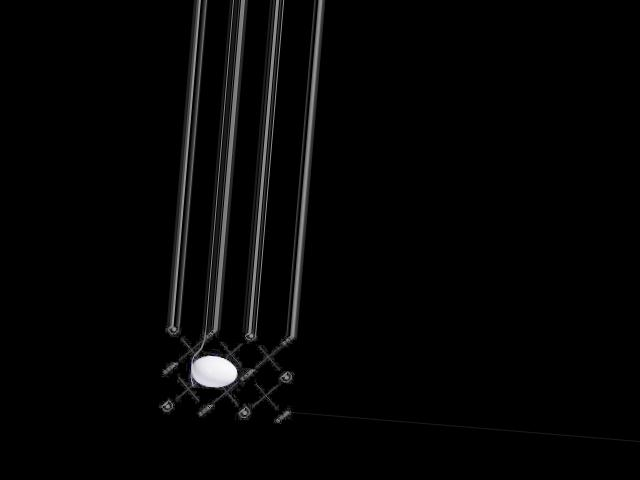egg: (190, 353, 238, 388)
